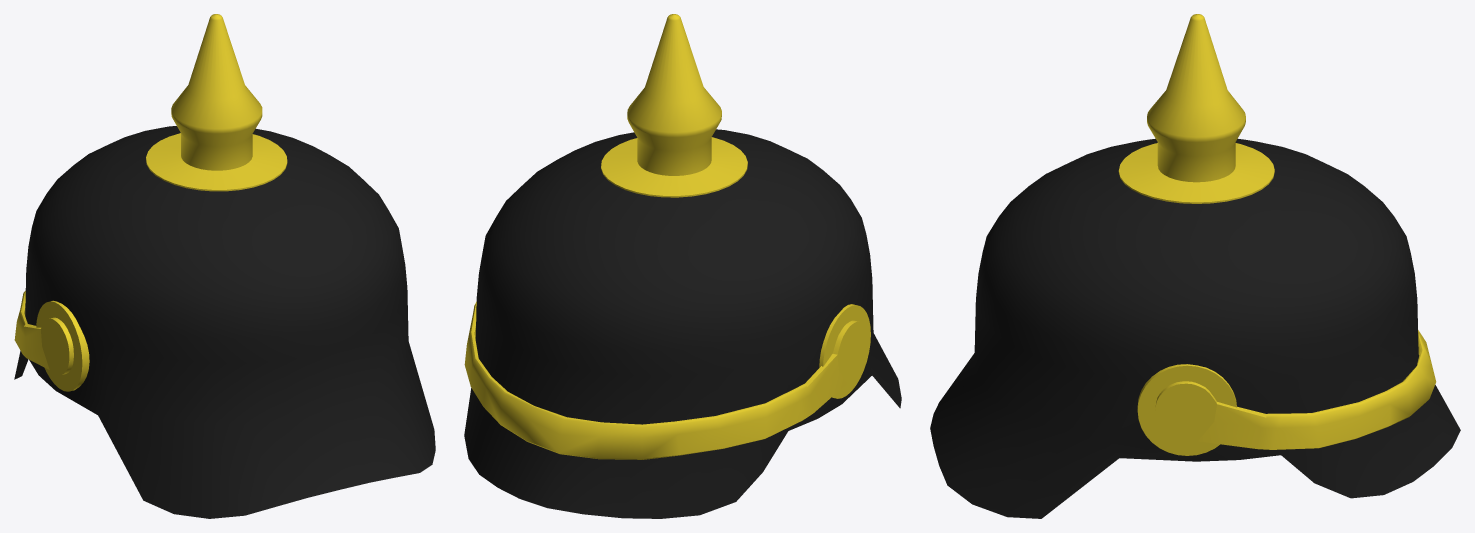
The model's file is Pickelhaube4.fbx.
3 renders of one model, left to right at view 1: azimuth 30°, elevation 25°; view 2: azimuth 150°, elevation 25°; view 3: azimuth 270°, elevation 25°, orthographic. The views are drawn at different scales.
Parts seen in each view (by area): view 1: Pickelhaube; view 2: Pickelhaube; view 3: Pickelhaube.
Boxes of the visible parts, bbox=[...] form: Pickelhaube: bbox=[14, 14, 435, 518]; Pickelhaube: bbox=[464, 14, 901, 518]; Pickelhaube: bbox=[930, 14, 1460, 518].
Size of the model in its own units: 318 by 368 by 408.
